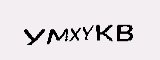В: (114, 22, 136, 45)
К: (93, 23, 114, 42)
М: (46, 26, 68, 45)
У: (23, 26, 45, 46)
Х: (69, 25, 81, 43)
Ү: (80, 22, 93, 44)
